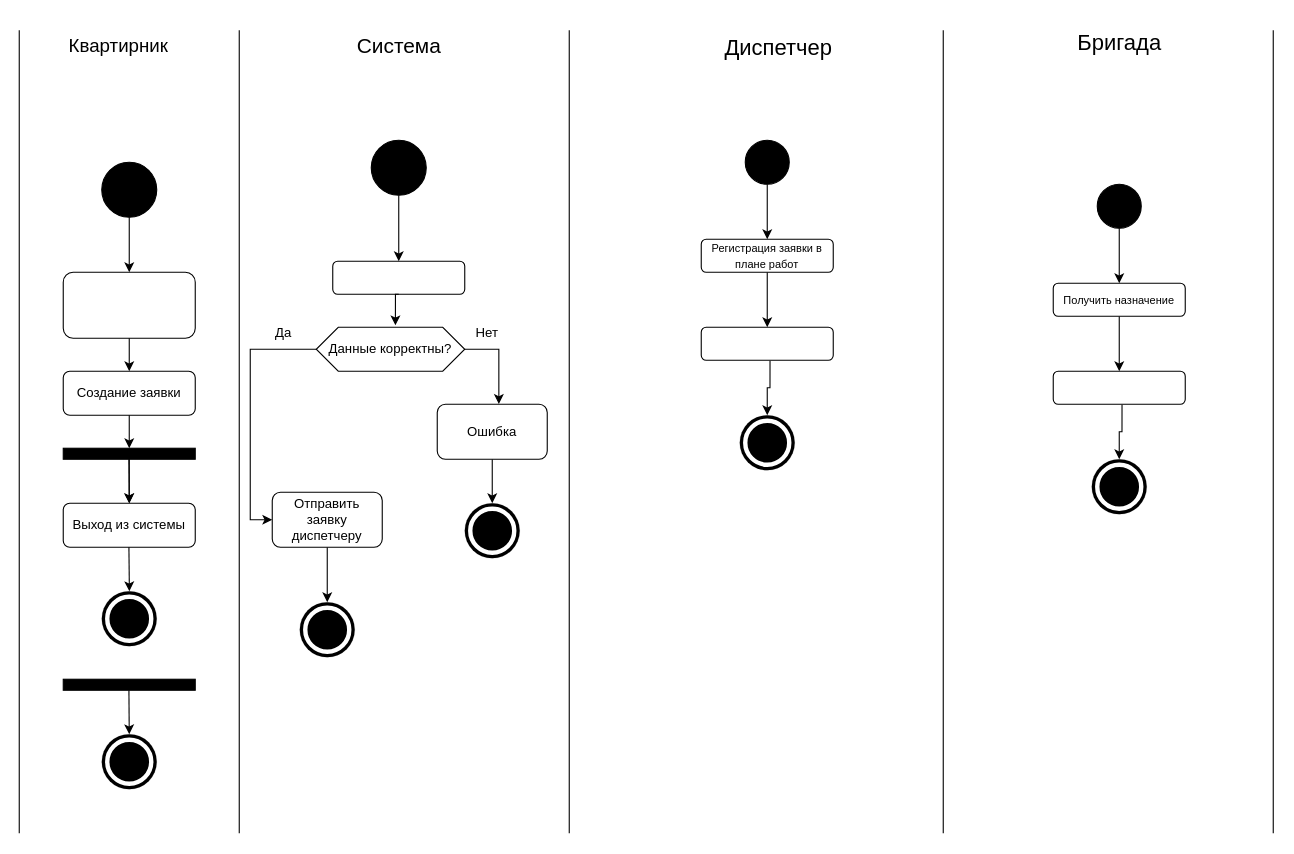
Some shapes in this 1294 by 854 pixel diagram are drawn without their labels. The box of each missing label's shape, as (x1, y1, x2, y2) in pixels:
Вход в систему: (62, 271, 195, 338)
выполнить работу: (1052, 370, 1185, 404)
Назначение бригады: (700, 326, 833, 360)
Проверка данных: (332, 260, 465, 294)
